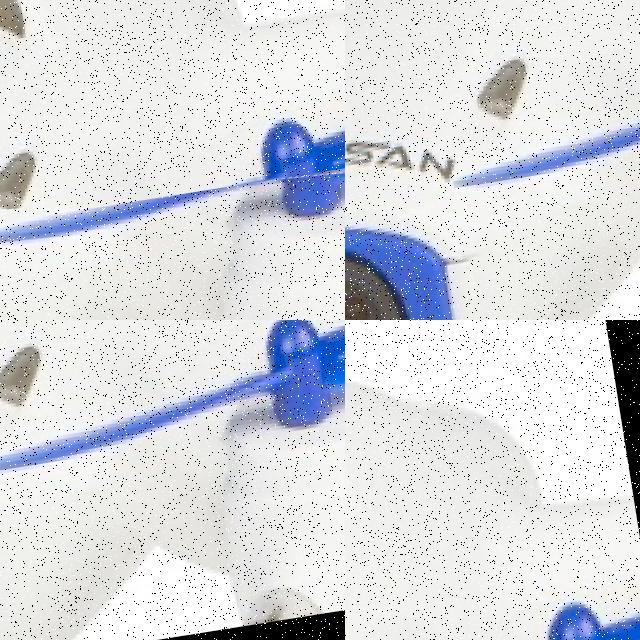drone: (345, 320, 640, 640), (0, 162, 345, 320)
